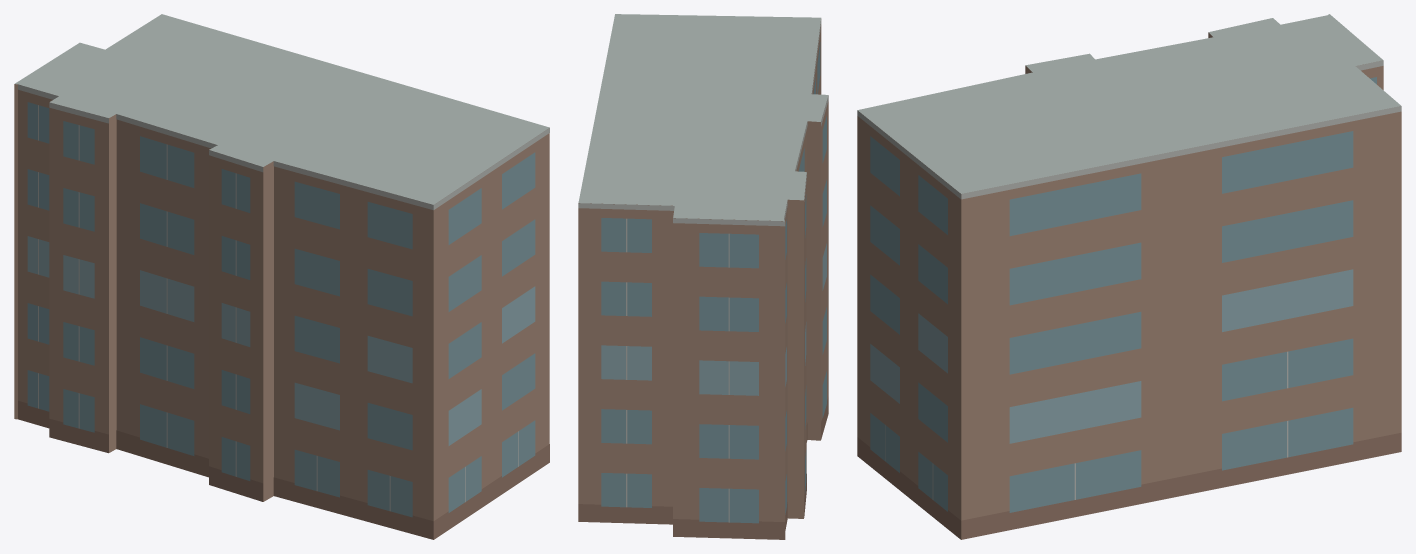
File: survey-upis-32937648.glb
The picture shows the model from 3 angles, left to right: view 1: azimuth 30°, elevation 25°; view 2: azimuth 150°, elevation 25°; view 3: azimuth 270°, elevation 25°; orthographic projection. The views are drawn at different scales.
Parts seen in each view (by area): view 1: survey-upis-32937648.tmp; view 2: survey-upis-32937648.tmp; view 3: survey-upis-32937648.tmp.
Boxes of the visible parts, x1,y1,x2,y2 form: survey-upis-32937648.tmp: (14,14,549,539); survey-upis-32937648.tmp: (578,14,828,539); survey-upis-32937648.tmp: (857,14,1401,539).
Bounding box in the file's own units: 17.03 × 15.25 × 21.76.
